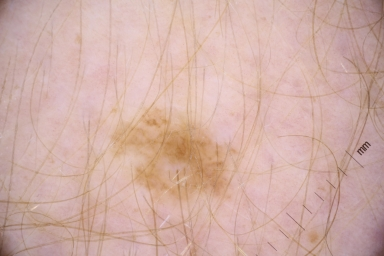melanoma: (115, 112, 231, 204)
